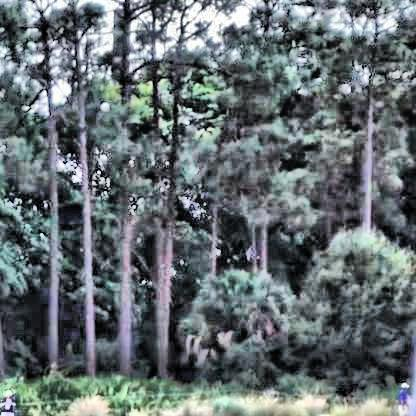golfball: (99, 99, 108, 109)
